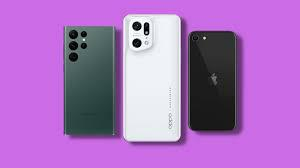Smartphone: (125, 12, 179, 142), (64, 24, 114, 139), (189, 30, 237, 129)
